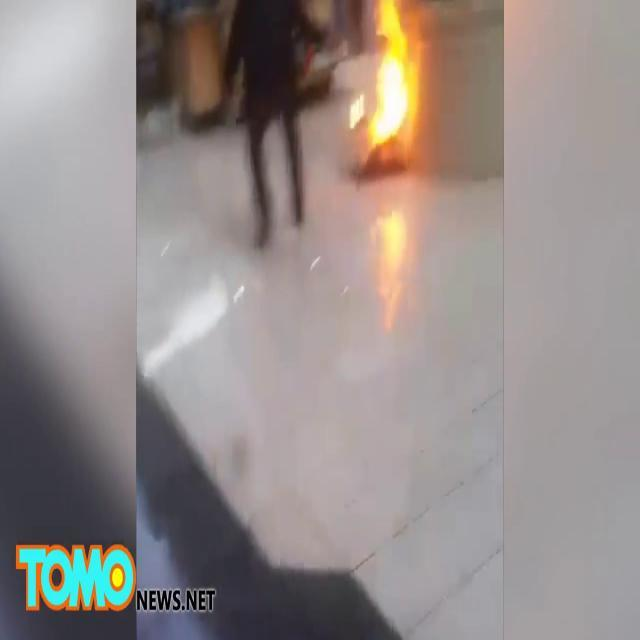Fire: (364, 2, 416, 154)
